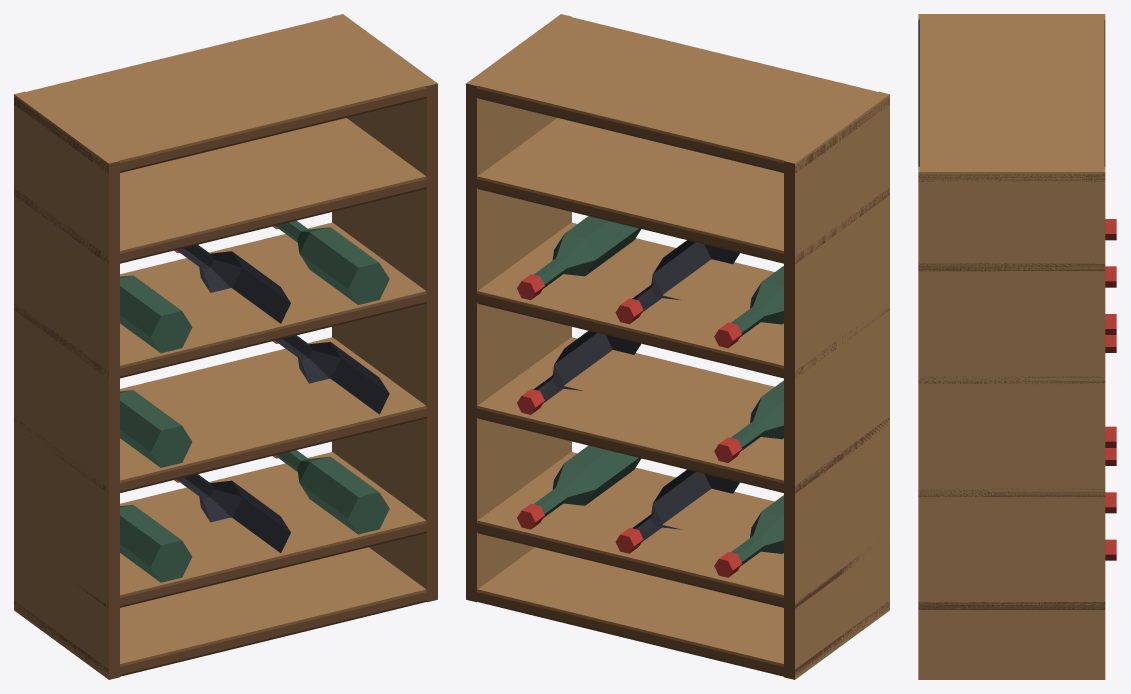
File: FN_Rack_Wine.glb
The picture shows the model from 3 angles, left to right: view 1: azimuth 30°, elevation 25°; view 2: azimuth 150°, elevation 25°; view 3: azimuth 270°, elevation 25°; orthographic projection.
Visible parts, largest first — view 1: FN_Rack_Wine; view 2: FN_Rack_Wine; view 3: FN_Rack_Wine.
Part boxes in pixels (bbox=[...]): FN_Rack_Wine: bbox=[14, 14, 437, 679]; FN_Rack_Wine: bbox=[466, 14, 889, 679]; FN_Rack_Wine: bbox=[918, 14, 1116, 679].
Size of the model in its own units: 0.6 by 0.9 by 0.318.
1 material, 1 textured.
